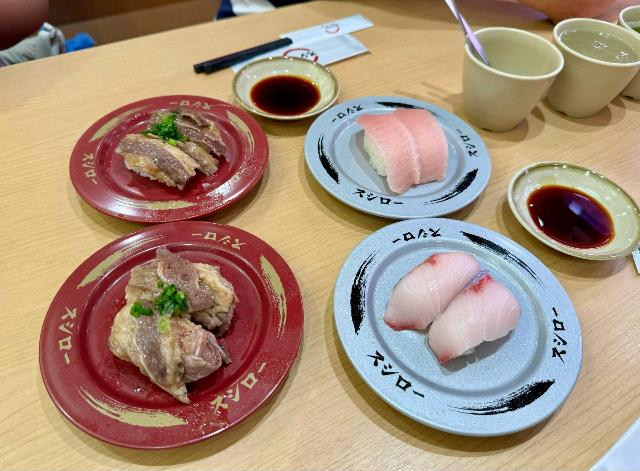janwhite: (323, 215, 605, 452), (290, 73, 498, 222)
